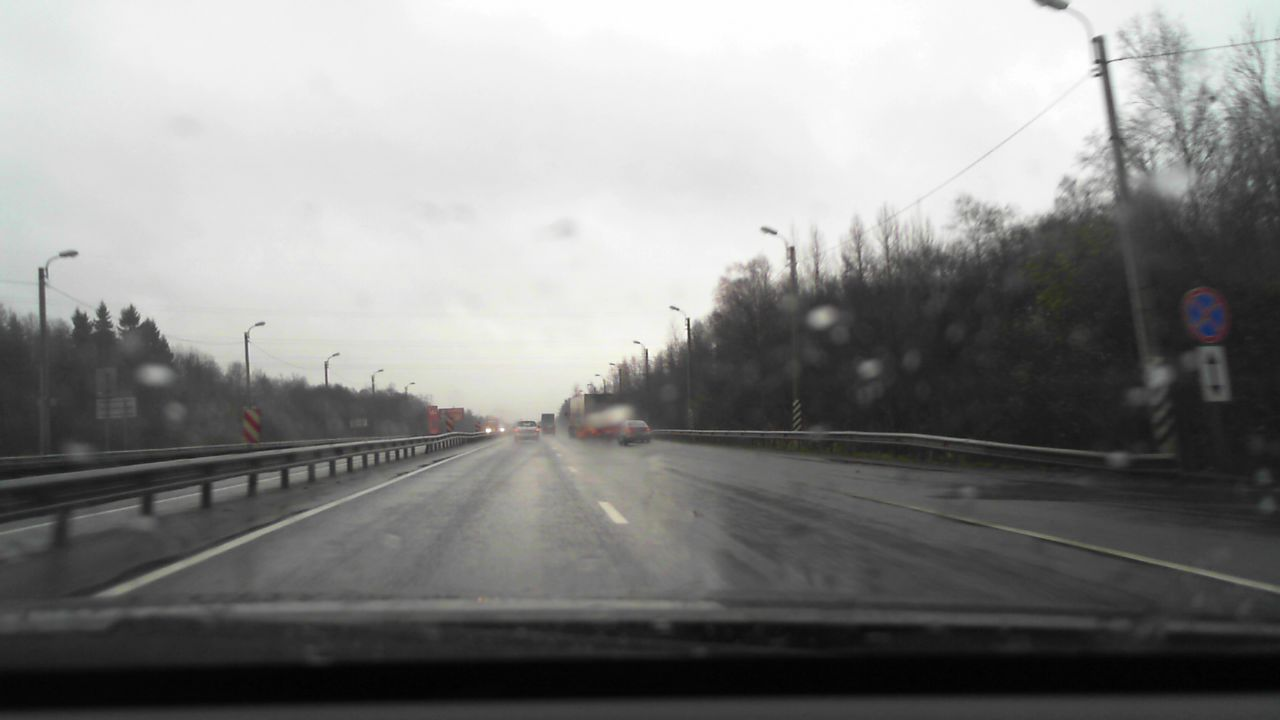No Parking: (1180, 286, 1231, 342)
